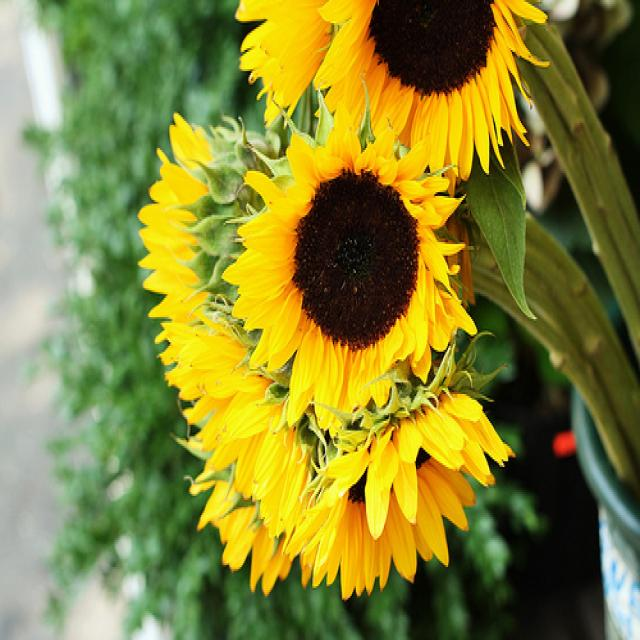sunflower: (135, 135, 481, 592), (242, 121, 459, 401), (232, 0, 550, 181)
